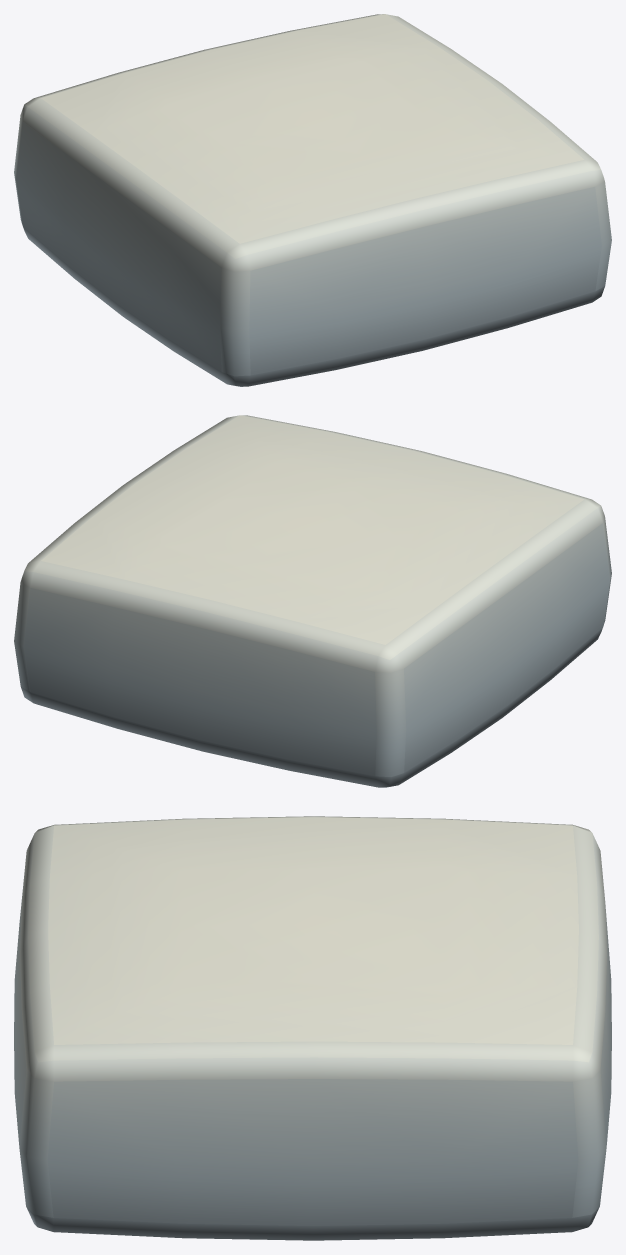
File: Quartz_Plain_Light_Slab.fbx
3 renders of one model, top to bottom at view 1: azimuth 30°, elevation 25°; view 2: azimuth 150°, elevation 25°; view 3: azimuth 270°, elevation 25°, orthographic. The views are drawn at different scales.
Parts seen in each view (by area): view 1: Quartz_Plain_Light_Slab_LOD0; view 2: Quartz_Plain_Light_Slab_LOD0; view 3: Quartz_Plain_Light_Slab_LOD0.
Boxes of the visible parts, <box> form: Quartz_Plain_Light_Slab_LOD0: <box>14,14,611,386</box>; Quartz_Plain_Light_Slab_LOD0: <box>14,415,611,787</box>; Quartz_Plain_Light_Slab_LOD0: <box>14,816,611,1240</box>.
Size of what is drawn, in the model's own units: 1.09 by 0.4168 by 1.09.
